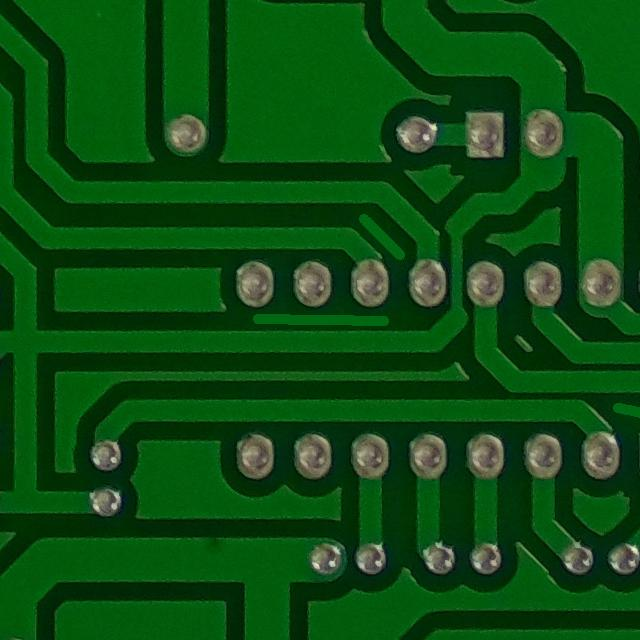spurious_copper: (240, 300, 400, 341)
